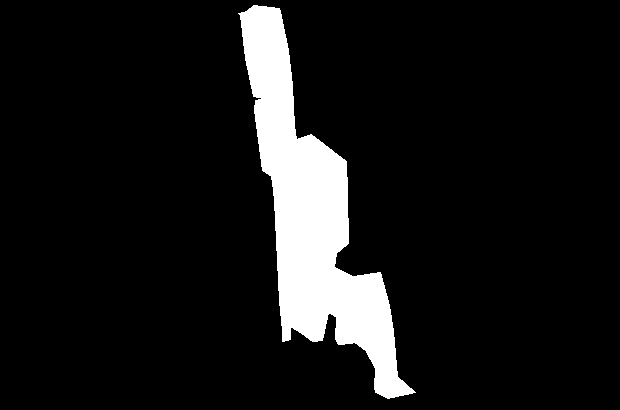type2: (237, 3, 416, 400)
